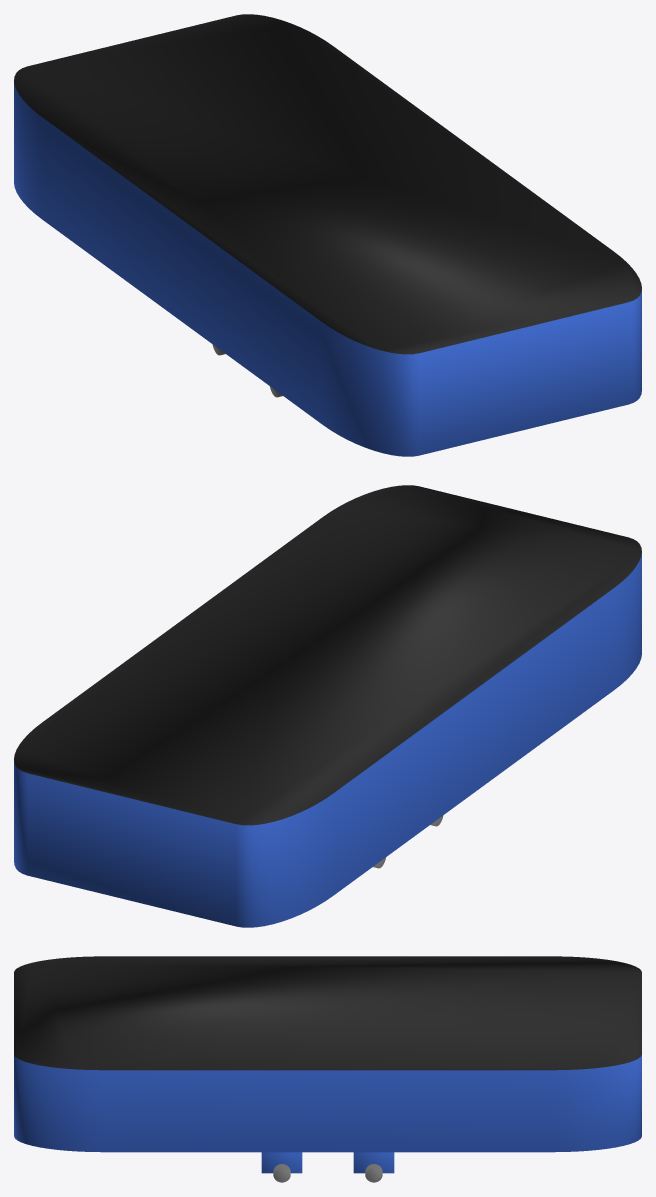
Rendered from flexion-carga.gltf.
The picture shows the model from 3 angles, top to bottom: view 1: azimuth 30°, elevation 25°; view 2: azimuth 150°, elevation 25°; view 3: azimuth 270°, elevation 25°; orthographic projection. The views are drawn at different scales.
Parts seen in each view (by area): view 1: carga2puntos; view 2: carga2puntos; view 3: carga2puntos.
Part boxes in pixels (x1=…): carga2puntos: x1=14, y1=14, x2=641, y2=456; carga2puntos: x1=14, y1=485, x2=641, y2=927; carga2puntos: x1=14, y1=956, x2=641, y2=1182.
Size of the model in its own units: 0.5862 by 0.33 by 1.37.
